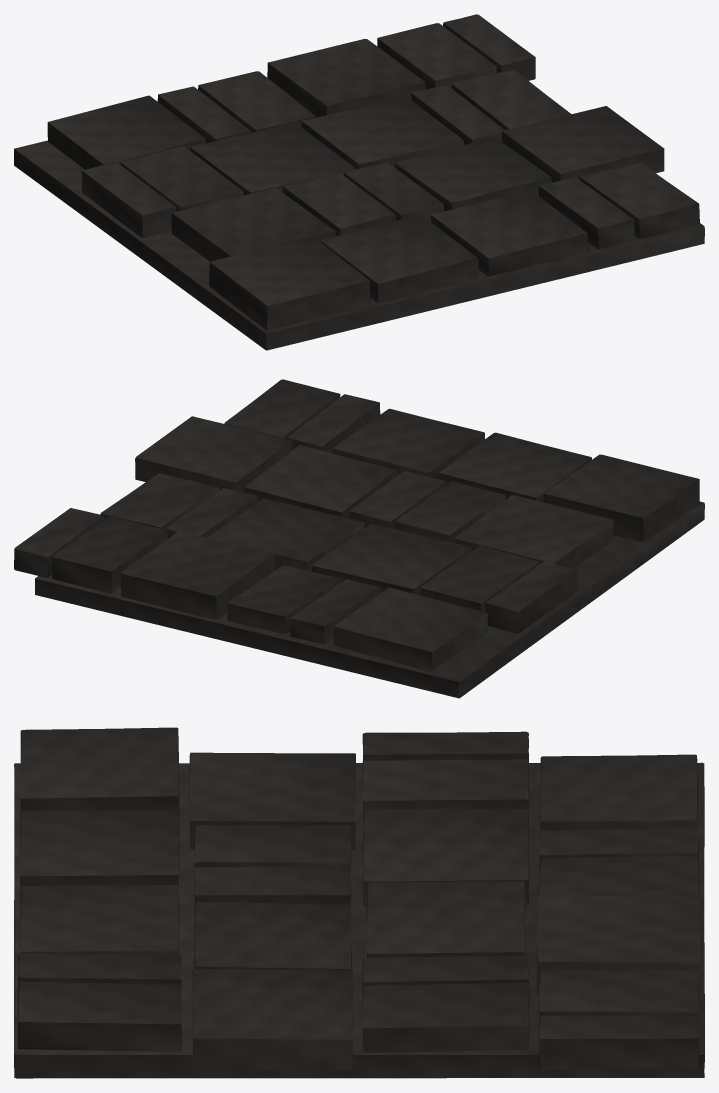
File: Flagstones_CrackedTile_LOD2.glb
The picture shows the model from 3 angles, top to bottom: view 1: azimuth 30°, elevation 25°; view 2: azimuth 150°, elevation 25°; view 3: azimuth 270°, elevation 25°; orthographic projection. The views are drawn at different scales.
Visible parts, largest first — view 1: Flagstones_CrackedTile_LOD2; view 2: Flagstones_CrackedTile_LOD2; view 3: Flagstones_CrackedTile_LOD2.
Boxes of the visible parts, left/top/right/bottom form: Flagstones_CrackedTile_LOD2: left=14, top=14, right=704, bottom=350; Flagstones_CrackedTile_LOD2: left=14, top=379, right=704, bottom=698; Flagstones_CrackedTile_LOD2: left=14, top=727, right=704, bottom=1078.
Bounding box in the file's own units: 2.64 × 0.244 × 2.49.
1 material, 1 textured.
